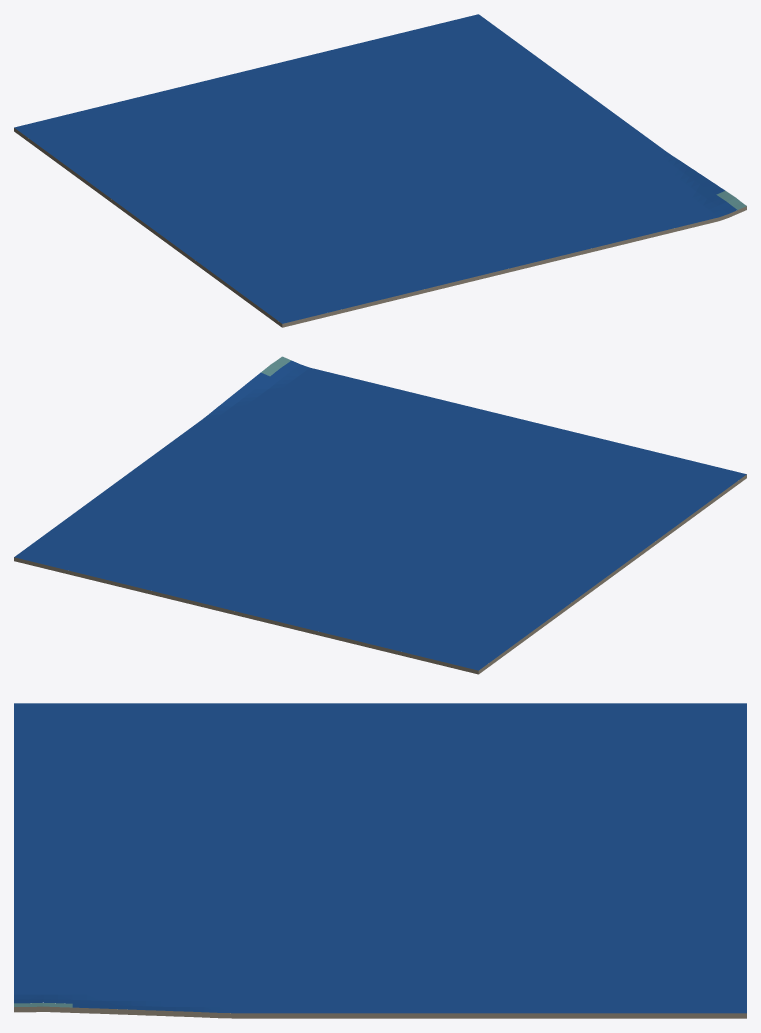
File: parca_-2_-8-uzak.glb
The picture shows the model from 3 angles, top to bottom: view 1: azimuth 30°, elevation 25°; view 2: azimuth 150°, elevation 25°; view 3: azimuth 270°, elevation 25°; orthographic projection. The views are drawn at different scales.
Visible parts, largest first — view 1: parca_-2_-8_arazi_uzak; view 2: parca_-2_-8_arazi_uzak; view 3: parca_-2_-8_arazi_uzak.
Part boxes in pixels (left/top/right/bottom): parca_-2_-8_arazi_uzak: left=14, top=14, right=746, bottom=327; parca_-2_-8_arazi_uzak: left=14, top=356, right=746, bottom=674; parca_-2_-8_arazi_uzak: left=14, top=703, right=746, bottom=1018.
Size of the model in its own units: 1000 by 17.95 by 1000.
